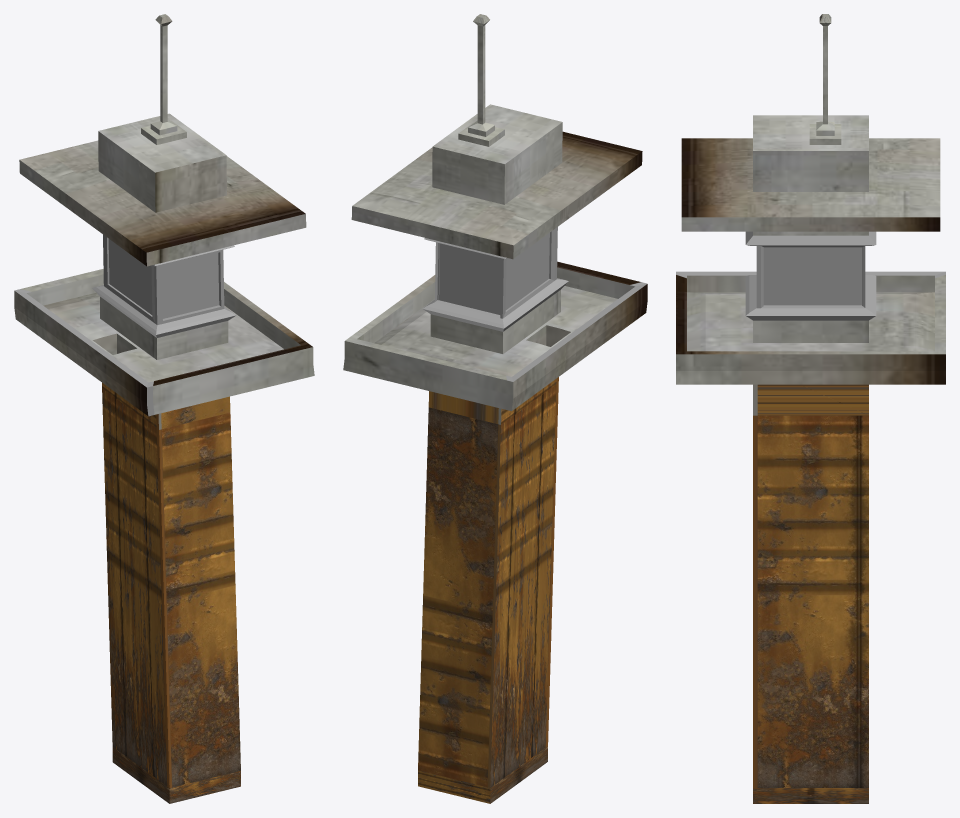
The model's file is Tower.fbx.
3 views of the same model, side by side, from view 1: azimuth 30°, elevation 25°; view 2: azimuth 150°, elevation 25°; view 3: azimuth 270°, elevation 25° (orthographic).
Parts seen in each view (by area): view 1: polySurface14; view 2: polySurface14; view 3: polySurface14.
Boxes of the visible parts, bbox=[...] form: polySurface14: bbox=[14, 14, 314, 803]; polySurface14: bbox=[343, 14, 647, 803]; polySurface14: bbox=[676, 14, 945, 803].
Bounding box in the file's own units: 14.57 × 62.61 × 19.95.
Materials: 3 (2 with a texture image).
